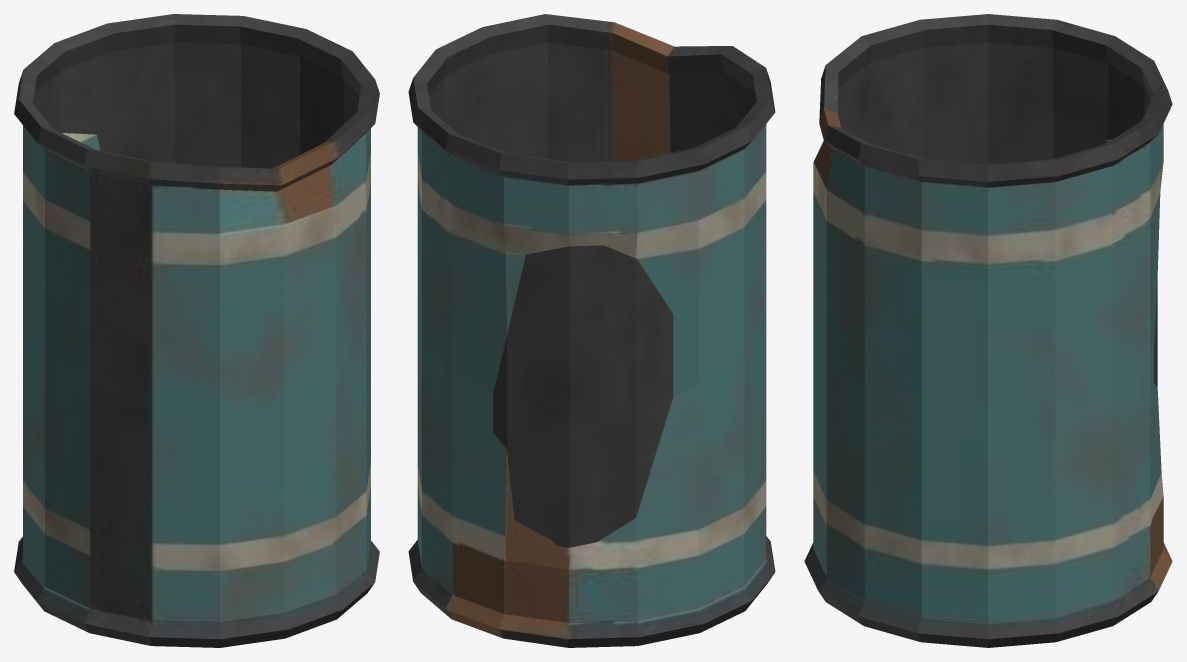
Rendered from P14_throwable_tin_can.glb.
3 renders of one model, left to right at view 1: azimuth 30°, elevation 25°; view 2: azimuth 150°, elevation 25°; view 3: azimuth 270°, elevation 25°, orthographic.
Visible parts, largest first — view 1: Dented tin can; view 2: Dented tin can; view 3: Dented tin can.
Boxes of the visible parts, <box> form: Dented tin can: <box>14,14,379,647</box>; Dented tin can: <box>408,14,775,647</box>; Dented tin can: <box>804,14,1172,647</box>.
Size of the model in its own units: 0.069 by 0.1 by 0.069.
4 materials, 4 textured.
